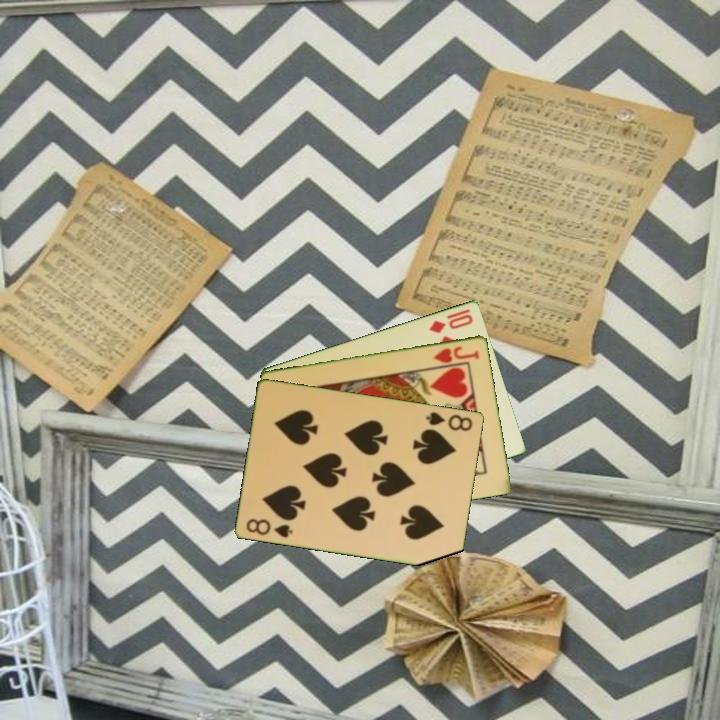10d: (426, 305, 476, 336)
8s: (422, 408, 476, 434), (243, 515, 296, 540)
Jh: (430, 342, 482, 366)
